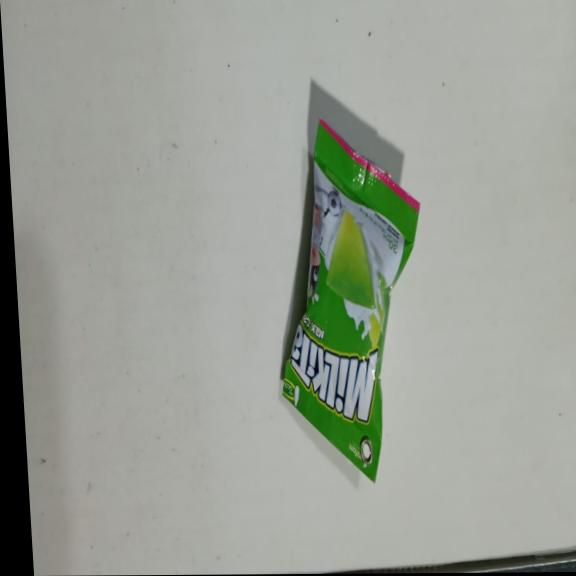Plastik: (266, 115, 437, 488)
